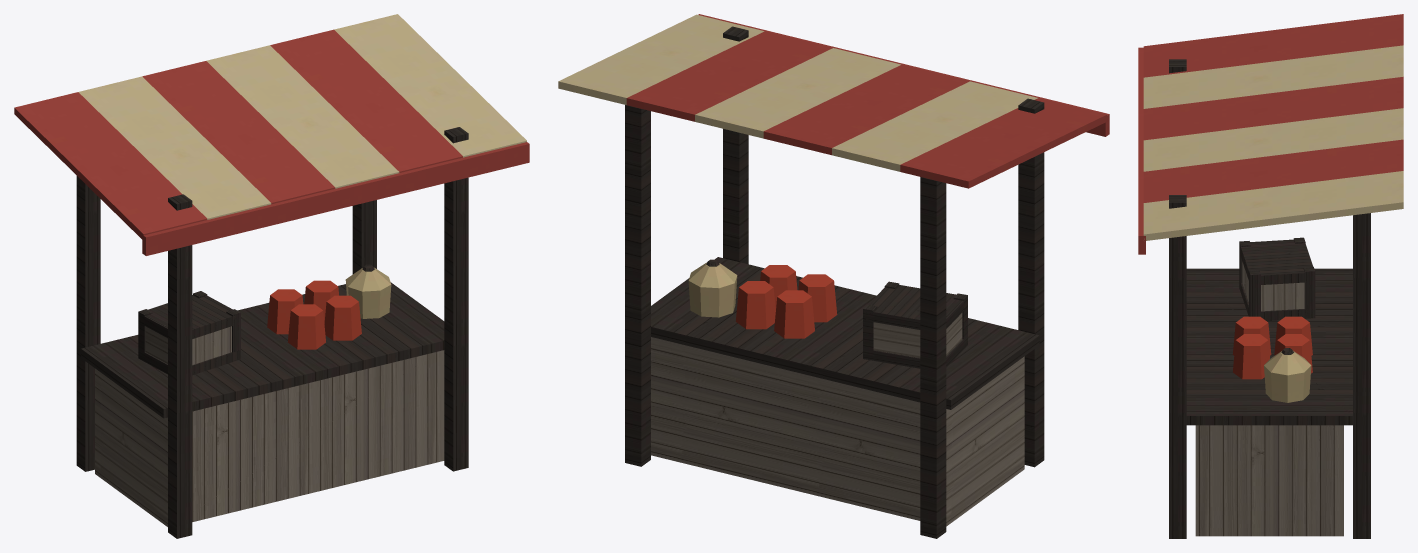
Rendered from market_stall_01.glb.
3 renders of one model, left to right at view 1: azimuth 30°, elevation 25°; view 2: azimuth 150°, elevation 25°; view 3: azimuth 270°, elevation 25°, orthographic. The views are drawn at different scales.
Visible parts, largest first — view 1: market_stall_01; view 2: market_stall_01; view 3: market_stall_01.
Part boxes in pixels (x1,y1,x2,y2): market_stall_01: [14, 14, 529, 538]; market_stall_01: [558, 14, 1109, 538]; market_stall_01: [1138, 14, 1403, 538].
Size of the model in its own units: 3 by 2.67 by 1.78.
6 materials, 6 textured.
